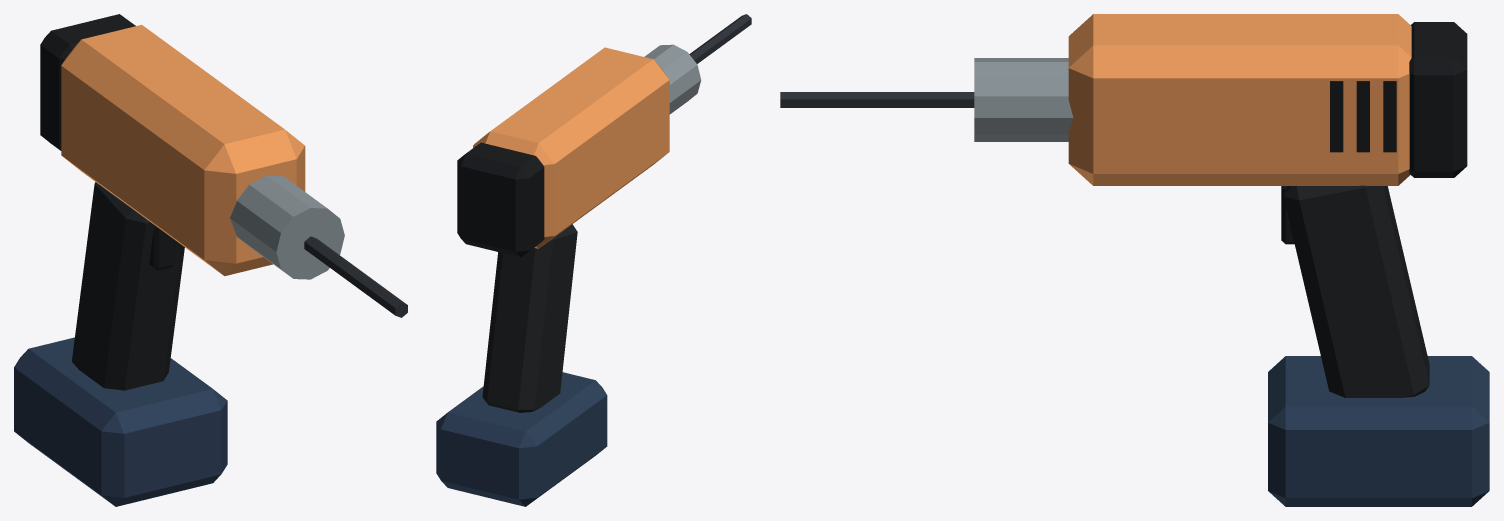
The model's file is Tool_Drill.fbx.
3 views of the same model, side by side, from view 1: azimuth 30°, elevation 25°; view 2: azimuth 150°, elevation 25°; view 3: azimuth 270°, elevation 25° (orthographic). The views are drawn at different scales.
Visible parts, largest first — view 1: Motor, Battery, Grip.003, Chuck, MotorBack, Bit, Trigger.004; view 2: Motor, Battery, Grip.003, MotorBack, Chuck, Bit; view 3: Motor, Battery, Grip.003, MotorBack, Chuck, Bit, Vent.012, Vent.013, Vent.014.
Part boxes in pixels (left/top/right/bottom): Motor: left=61, top=25, right=305, bottom=276; Battery: left=14, top=337, right=227, bottom=506; Grip.003: left=72, top=182, right=184, bottom=390; Chuck: left=230, top=175, right=344, bottom=279; MotorBack: left=40, top=14, right=135, bottom=150; Bit: left=304, top=236, right=407, bottom=317; Trigger.004: left=149, top=225, right=175, bottom=270; Motor: left=474, top=47, right=669, bottom=248; Battery: left=436, top=372, right=607, bottom=506; Grip.003: left=482, top=224, right=577, bottom=412; MotorBack: left=457, top=142, right=544, bottom=257; Chuck: left=644, top=44, right=701, bottom=114; Bit: left=689, top=14, right=751, bottom=63; Motor: left=1068, top=14, right=1411, bottom=185; Battery: left=1268, top=356, right=1489, bottom=506; Grip.003: left=1283, top=185, right=1429, bottom=397; MotorBack: left=1409, top=22, right=1467, bottom=177; Chuck: left=974, top=58, right=1073, bottom=141; Bit: left=780, top=92, right=974, bottom=107; Vent.012: left=1383, top=81, right=1396, bottom=152; Vent.013: left=1356, top=81, right=1369, bottom=152; Vent.014: left=1330, top=81, right=1343, bottom=152.
Size of the model in its own units: 0.07 by 0.225 by 0.32.
